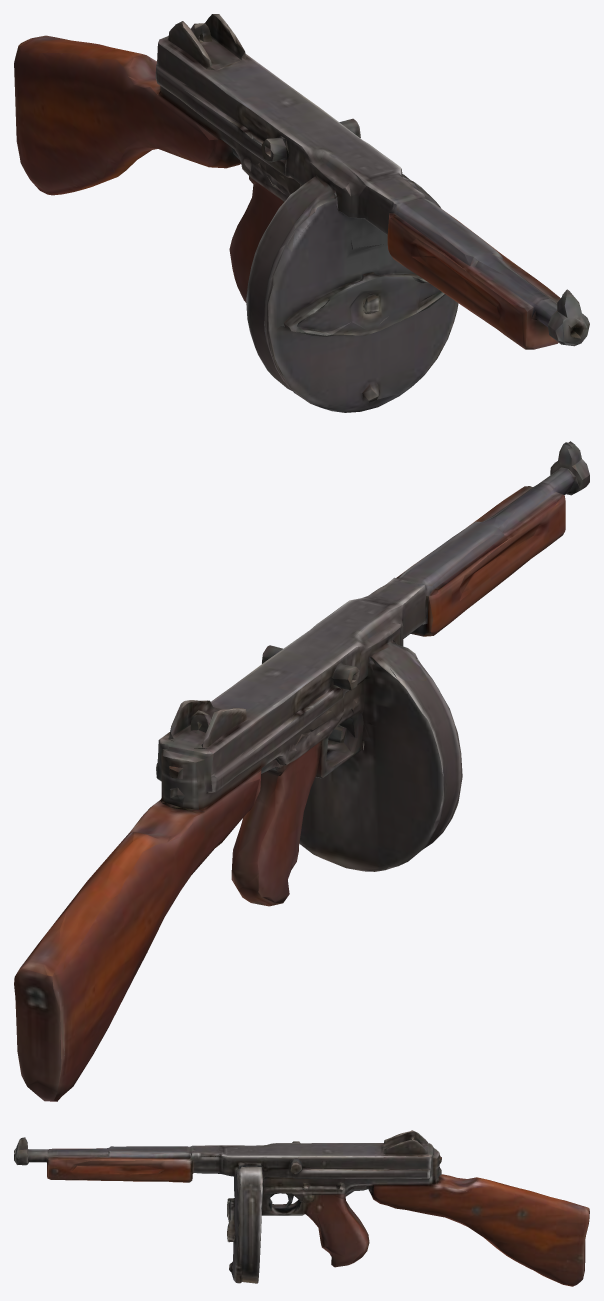
Rendered from tommy_gun.glb.
The picture shows the model from 3 angles, top to bottom: view 1: azimuth 30°, elevation 25°; view 2: azimuth 150°, elevation 25°; view 3: azimuth 270°, elevation 25°; orthographic projection. The views are drawn at different scales.
Parts seen in each view (by area): view 1: model; view 2: model; view 3: model.
Boxes of the visible parts, x1=… form: model: x1=14, y1=14, x2=589, y2=412; model: x1=14, y1=441, x2=589, y2=1101; model: x1=14, y1=1130, x2=589, y2=1286.
Bounding box in the file's own units: 0.1791 × 0.2471 × 0.86.
1 material, 1 textured.
